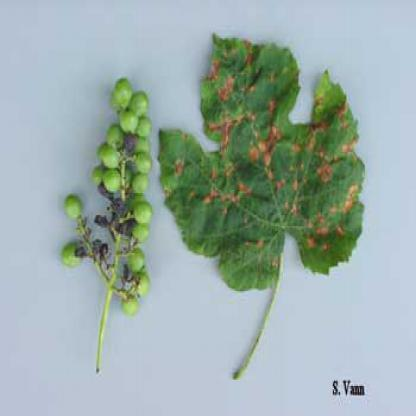grape leaf black rot: (158, 16, 379, 320)
